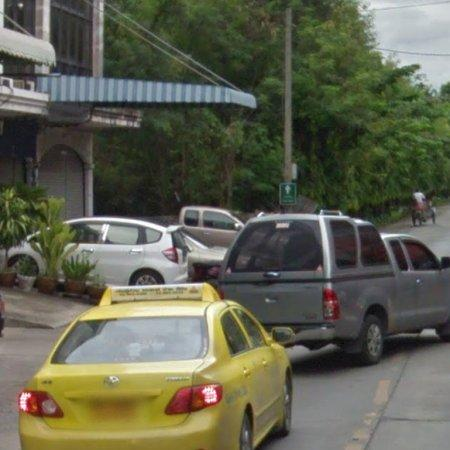taxis: (18, 284, 292, 450)
